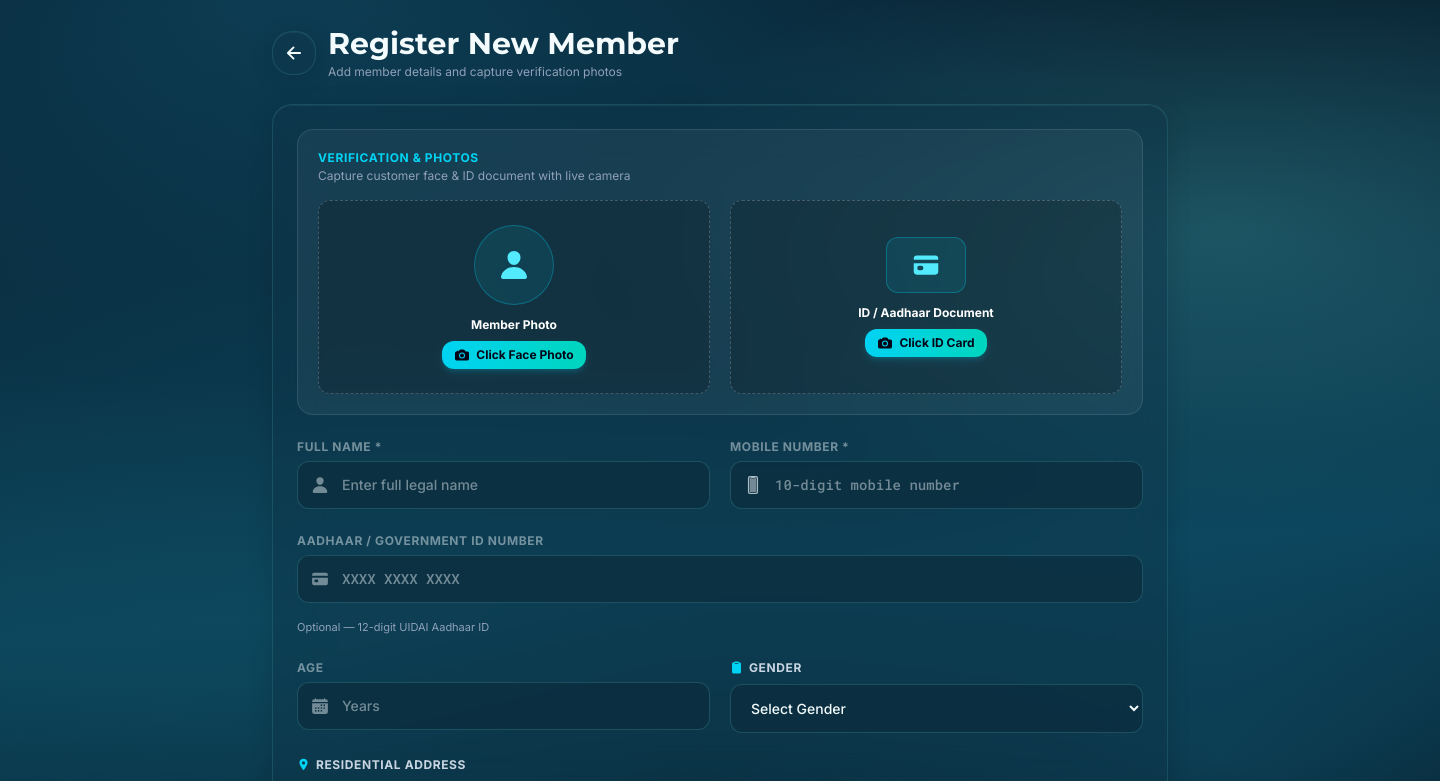
Test: AddCustomerPage › submits a valid form and shows a success toast
Type "Aarav Patel" into the field labelled "Full Name *" at (504, 485), box [297,461,710,509]
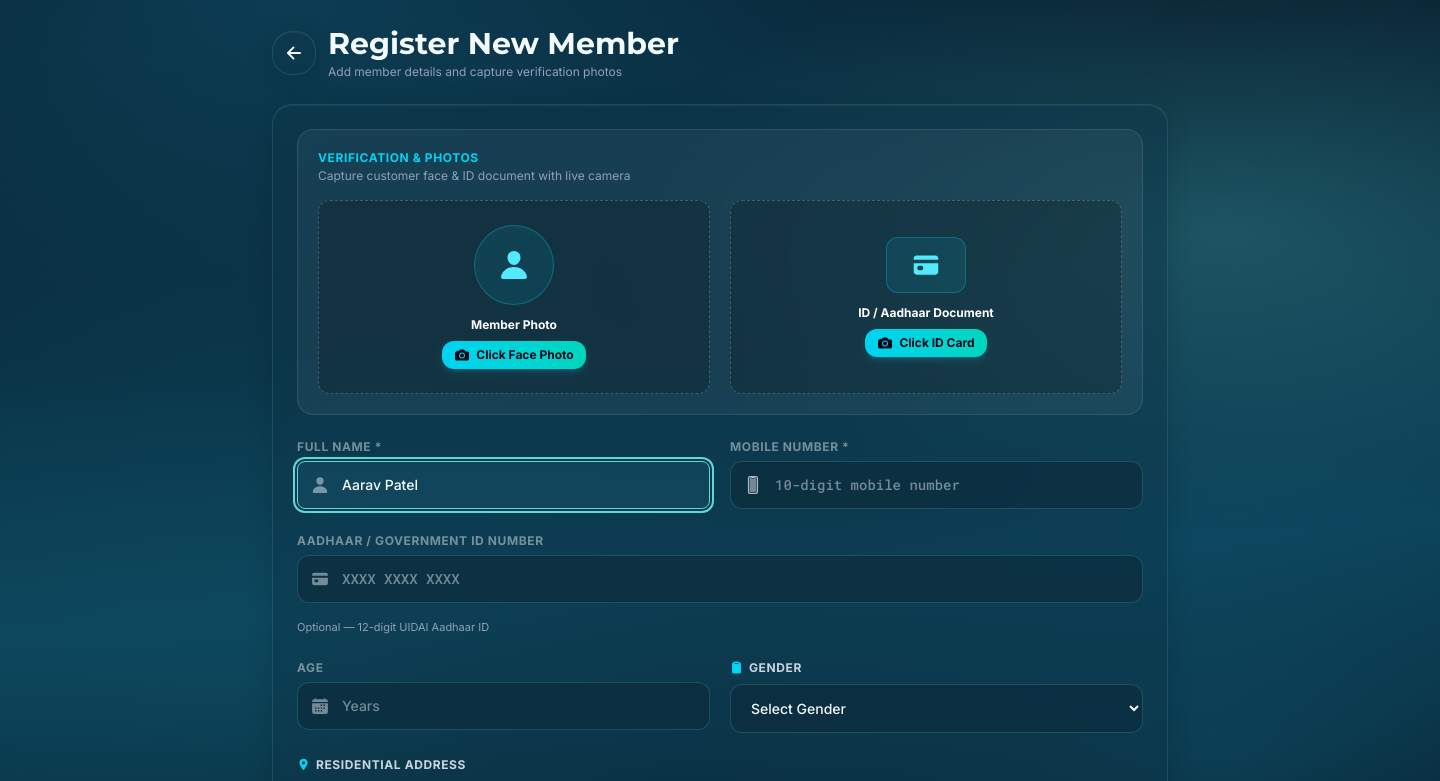
Type "9876543210" into the field labelled "Mobile Number *" at (936, 485), box [730,461,1143,509]
(page scrolled)
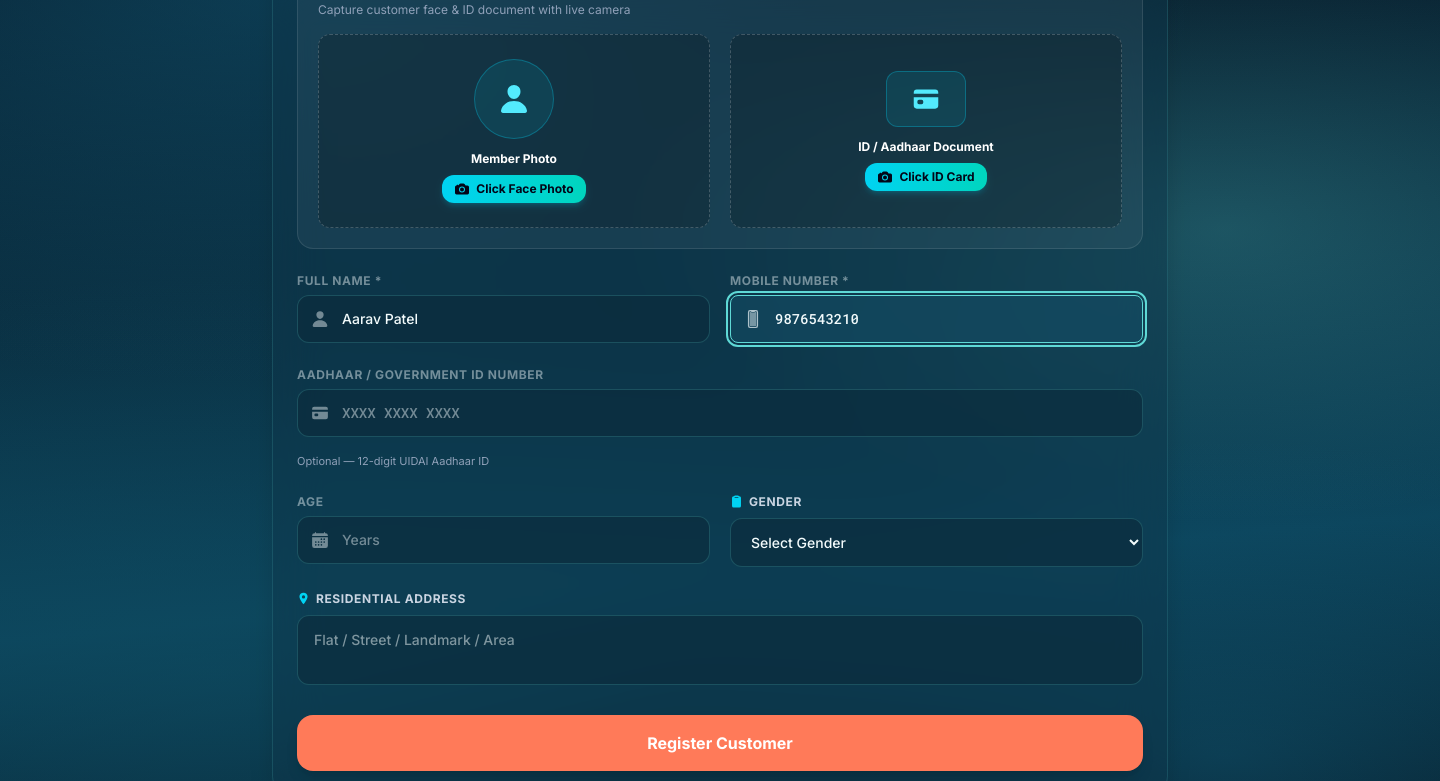
Click the button "Register Customer" at (720, 742), box [297,714,1143,770]
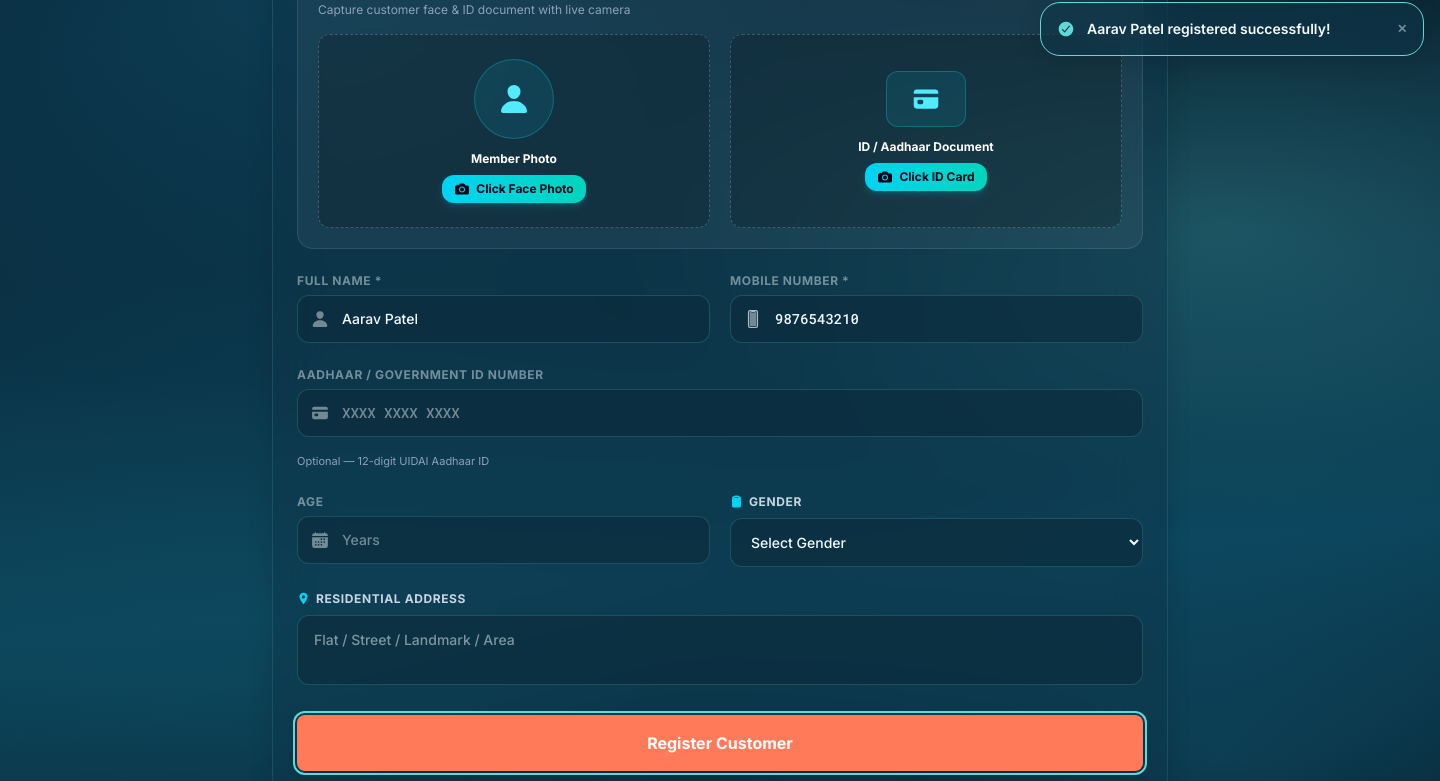
Expected: the text "Aarav Patel registered successfully!" is shown, [1087,20,1330,37]
